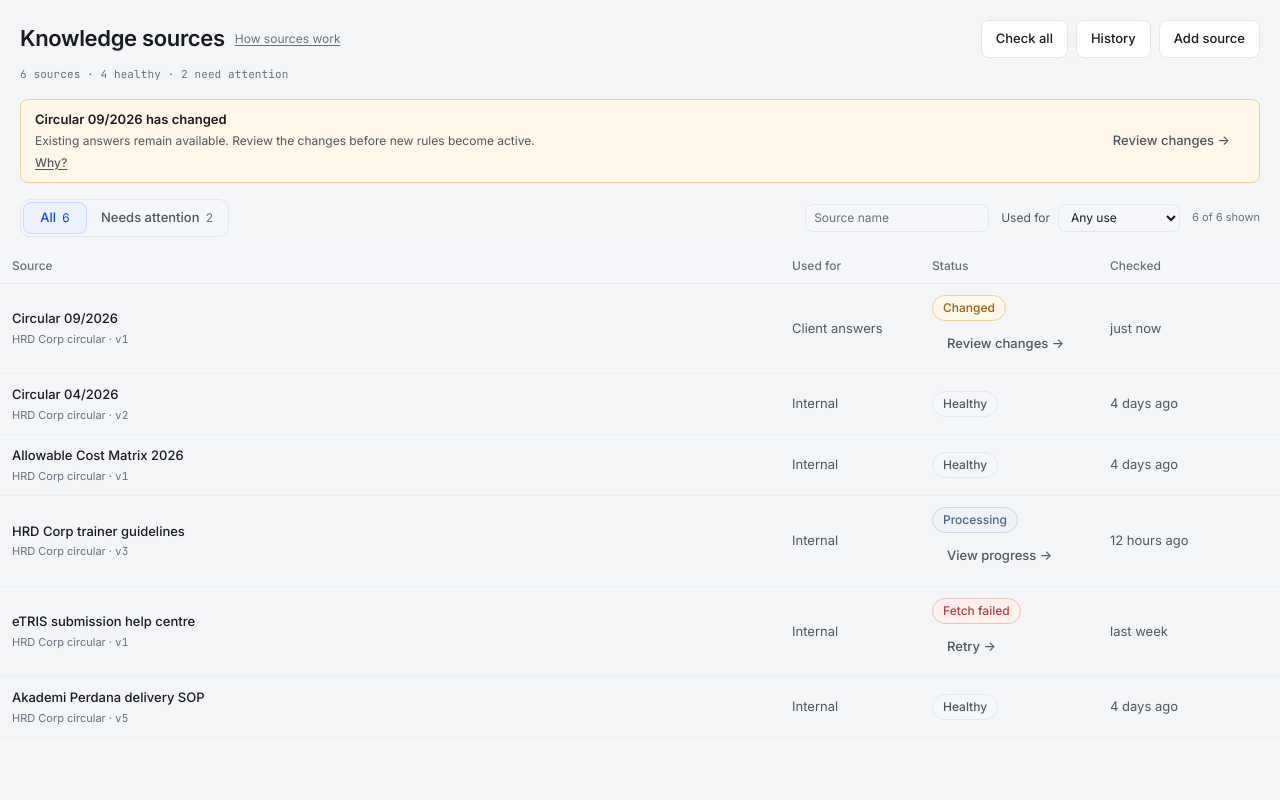
M16-S05 · knowledge sources › splits the inventory into All and Needs attention, and narrows to the two
Check: the tab "All 6" is shown, box [23,202,87,234]
Click the tab "Needs attention 2" at (157, 218), box [88,202,226,234]
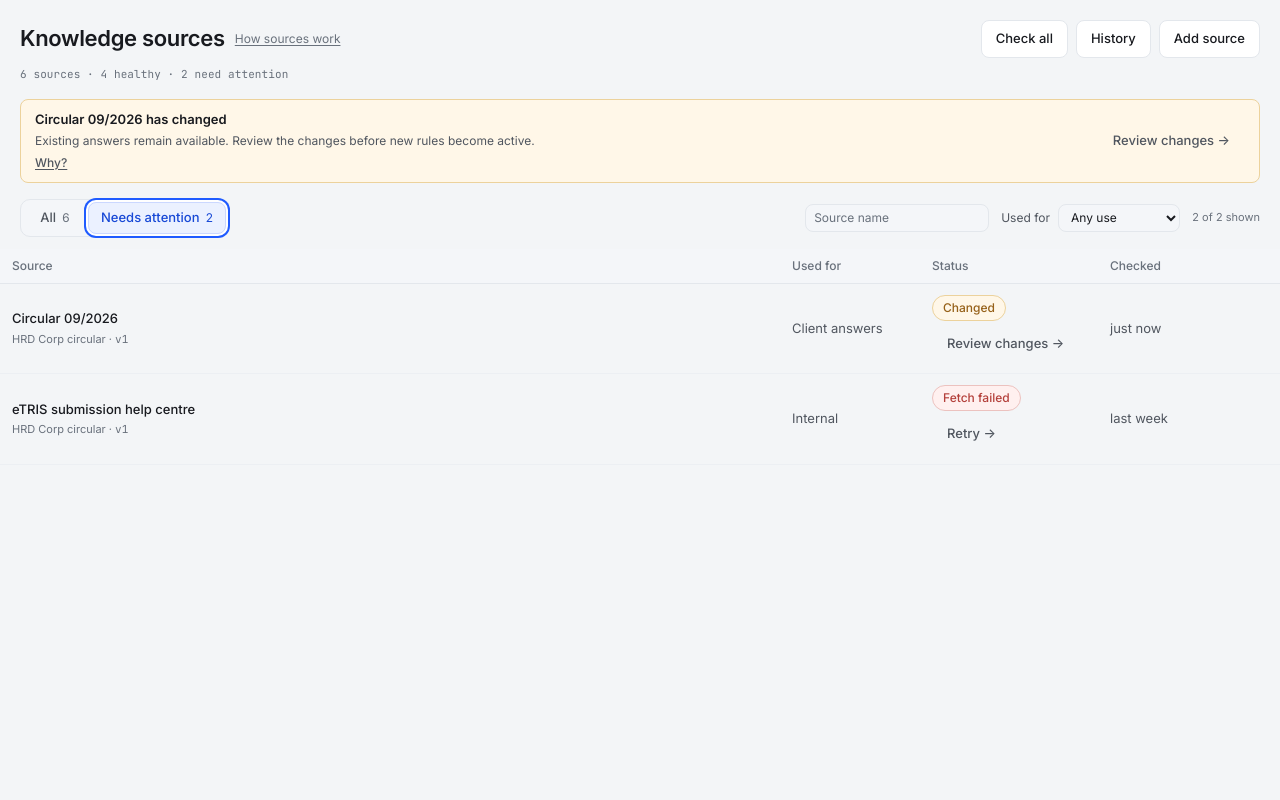
Check: the text "Circular 09/2026" is shown, box [12,310,118,326]
Check: the text "Circular 04/2026" is gone
